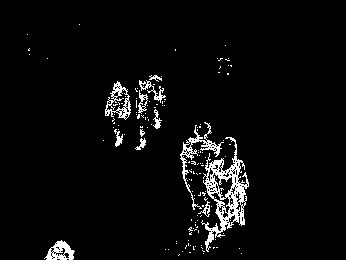person: (202, 134, 253, 250), (180, 121, 214, 255), (131, 73, 166, 155), (105, 79, 133, 149)
